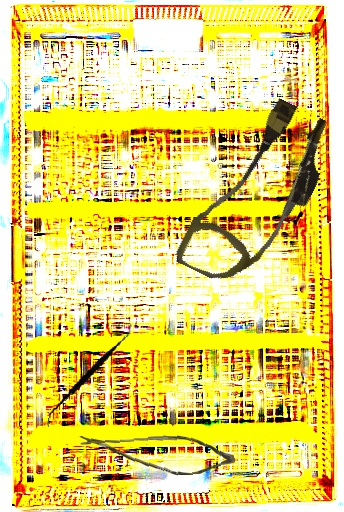Cannula: (172, 86, 344, 303)
Micro Scissor: (76, 425, 236, 483)
Spatula Surgical: (46, 311, 133, 439)
